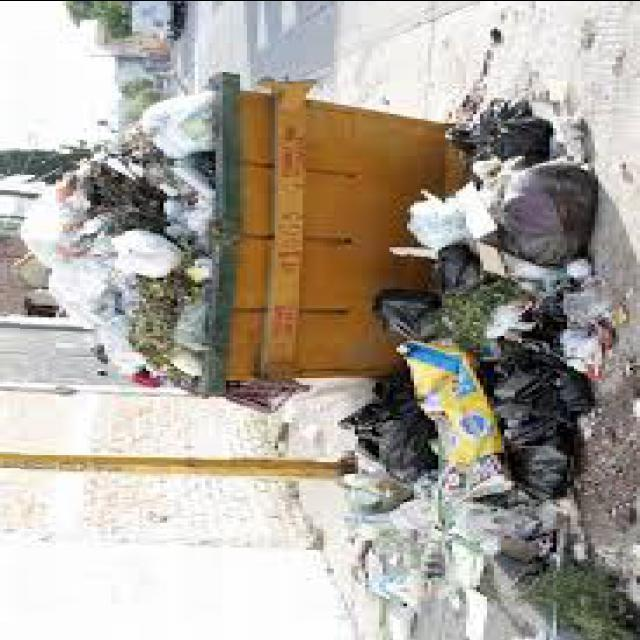Trashbag: (498, 164, 599, 265), (449, 99, 561, 182), (500, 348, 597, 437), (338, 403, 434, 487), (509, 420, 581, 496), (373, 280, 440, 338)
